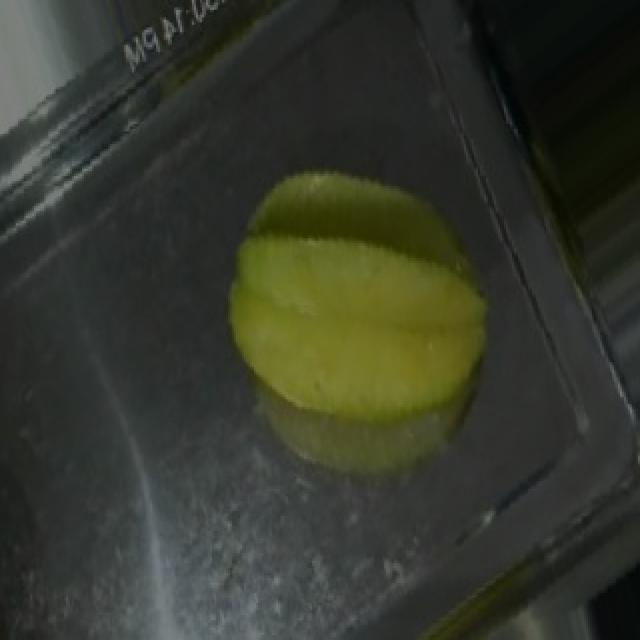fruit: (194, 112, 544, 491)
